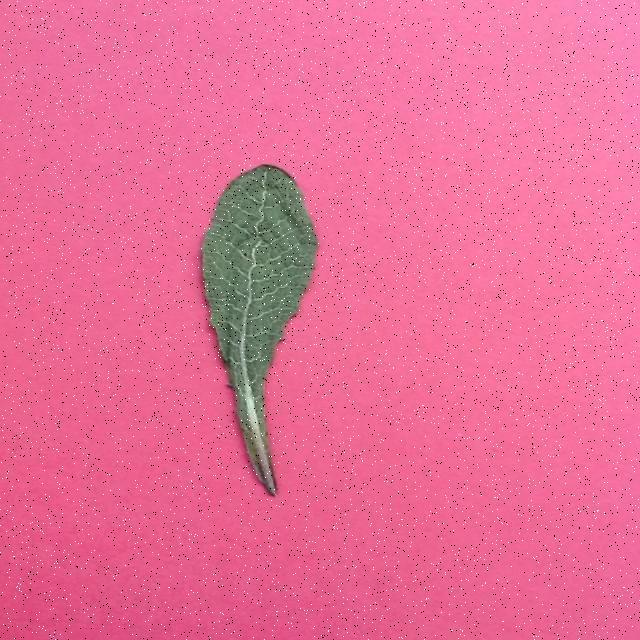foliage: (194, 162, 320, 494)
